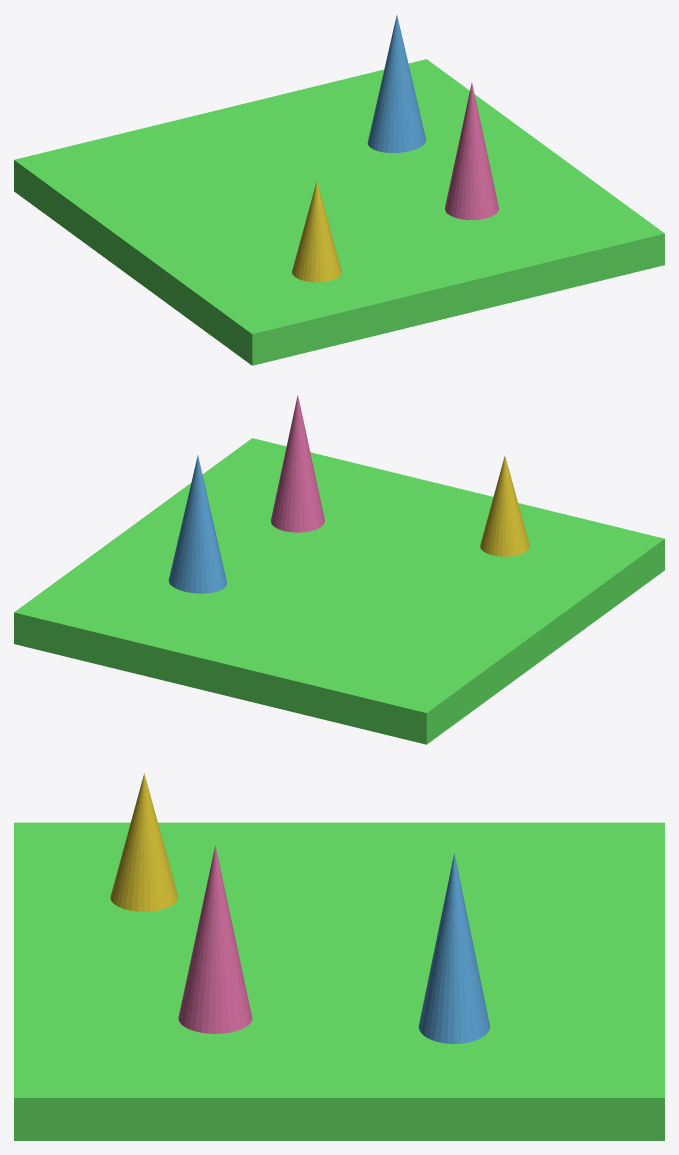
The model's file is world.glb.
The picture shows the model from 3 angles, top to bottom: view 1: azimuth 30°, elevation 25°; view 2: azimuth 150°, elevation 25°; view 3: azimuth 270°, elevation 25°; orthographic projection. The views are drawn at different scales.
Visible parts, largest first — view 1: Cube, 锥体.002, 锥体.001, 锥体; view 2: Cube, 锥体.002, 锥体.001, 锥体; view 3: Cube, 锥体.001, 锥体.002, 锥体.
Part boxes in pixels (box(x1,y1,x2,y2)): Cube: box(14, 59, 664, 365); 锥体.002: box(367, 15, 425, 152); 锥体.001: box(445, 82, 498, 219); 锥体: box(292, 181, 341, 282); Cube: box(14, 438, 664, 744); 锥体.002: box(168, 455, 226, 593); 锥体.001: box(270, 394, 324, 532); 锥体: box(480, 456, 529, 556); Cube: box(14, 822, 664, 1140); 锥体.001: box(178, 845, 252, 1033); 锥体.002: box(418, 853, 489, 1043); 锥体: box(110, 773, 178, 911).
Bounding box in the file's own units: 16.68 × 6.14 × 16.68.
